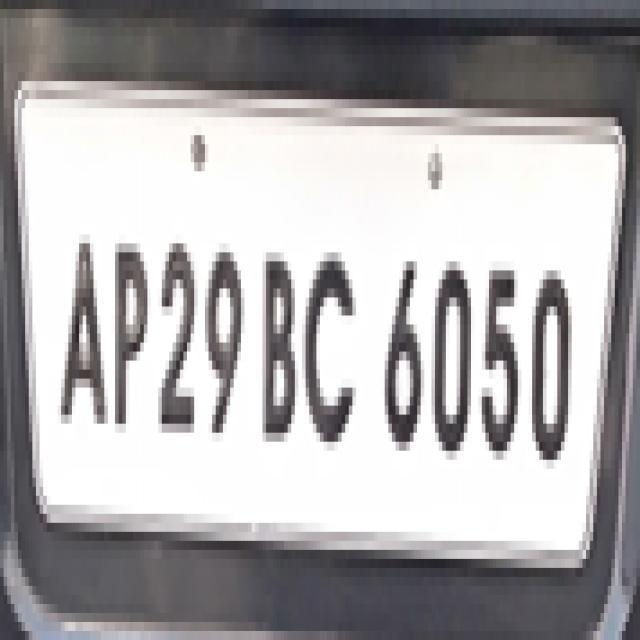0: (530, 264, 576, 474), (428, 258, 476, 457)
5: (481, 261, 526, 461)
6: (381, 258, 425, 453)
9: (200, 246, 244, 446)
A: (55, 234, 113, 448)
B: (258, 238, 300, 444)
C: (302, 243, 362, 443)
P: (111, 232, 150, 436)
